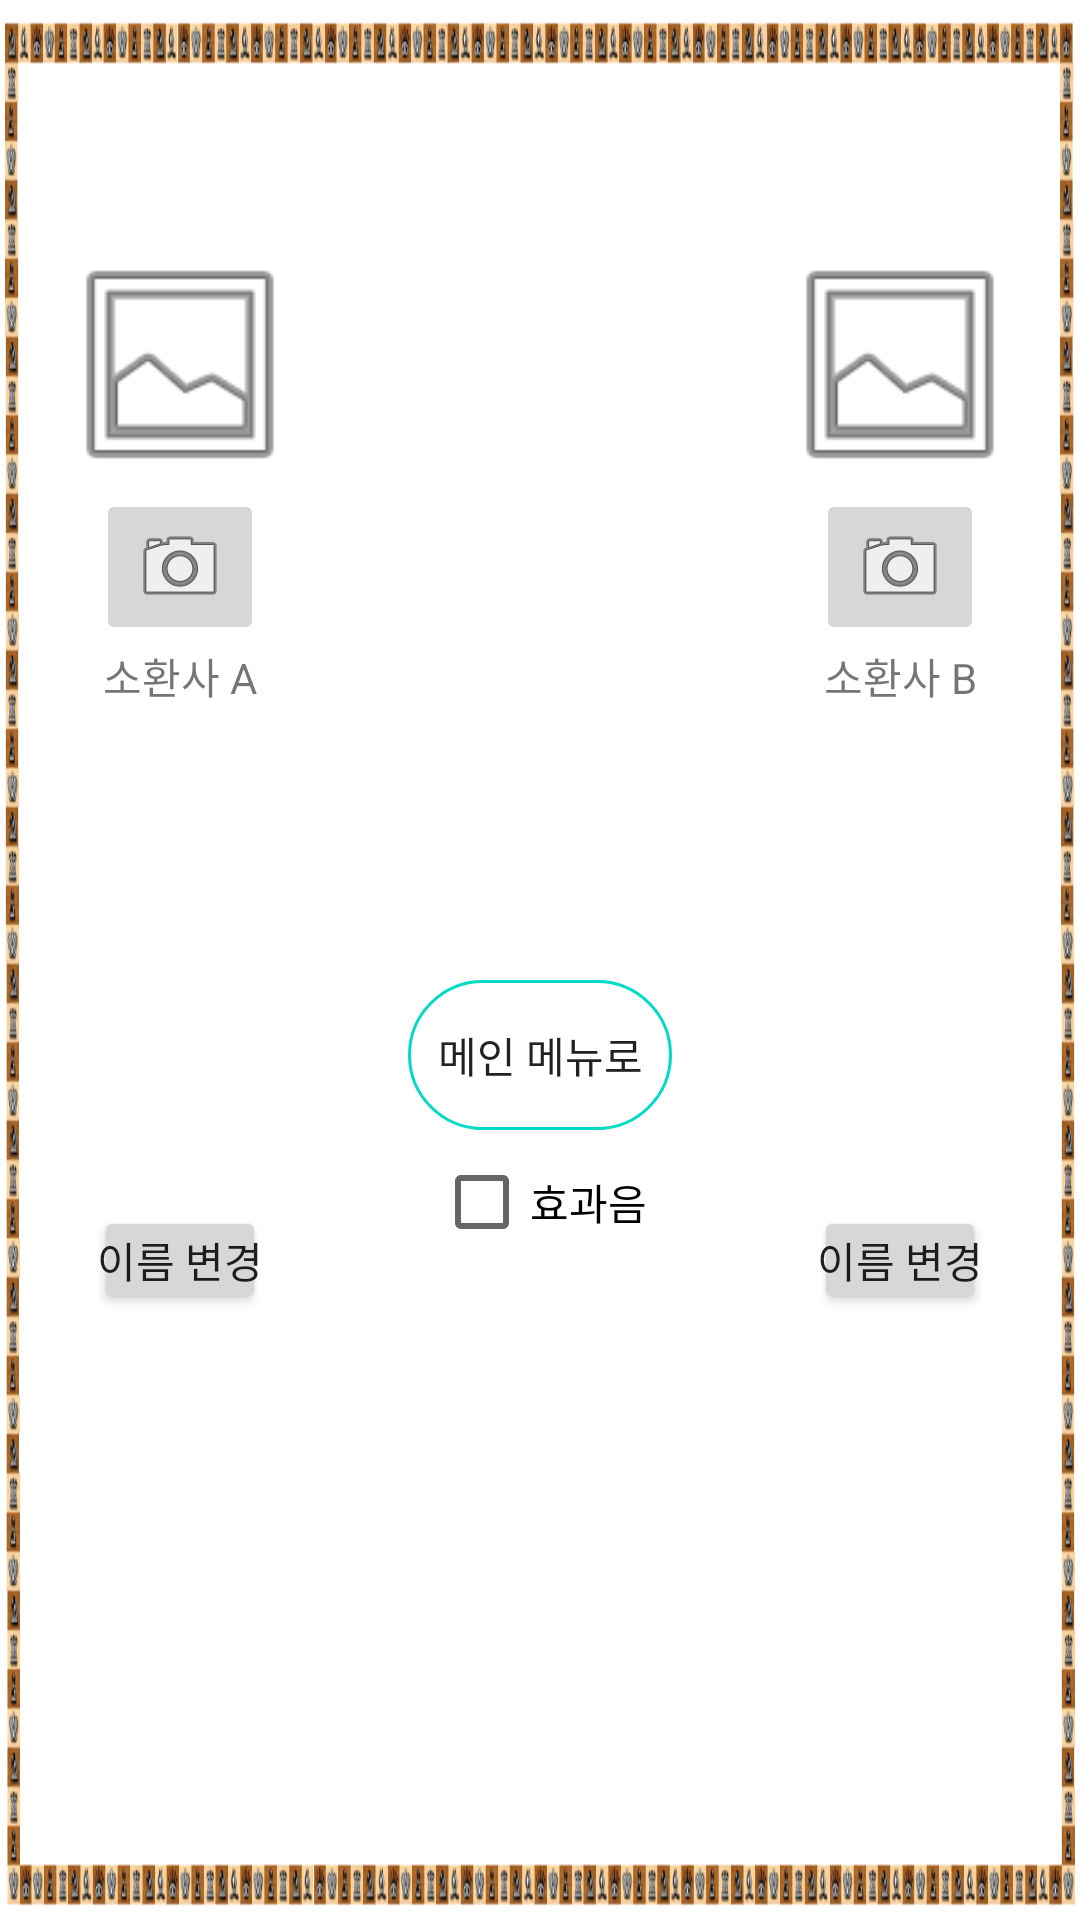

Point at icon controls on the screen. Image size 1080 x 1920, points as (x=x, y=y).
camera: (x=180, y=567), (x=900, y=567)
gallery: (x=180, y=364), (x=900, y=364)
